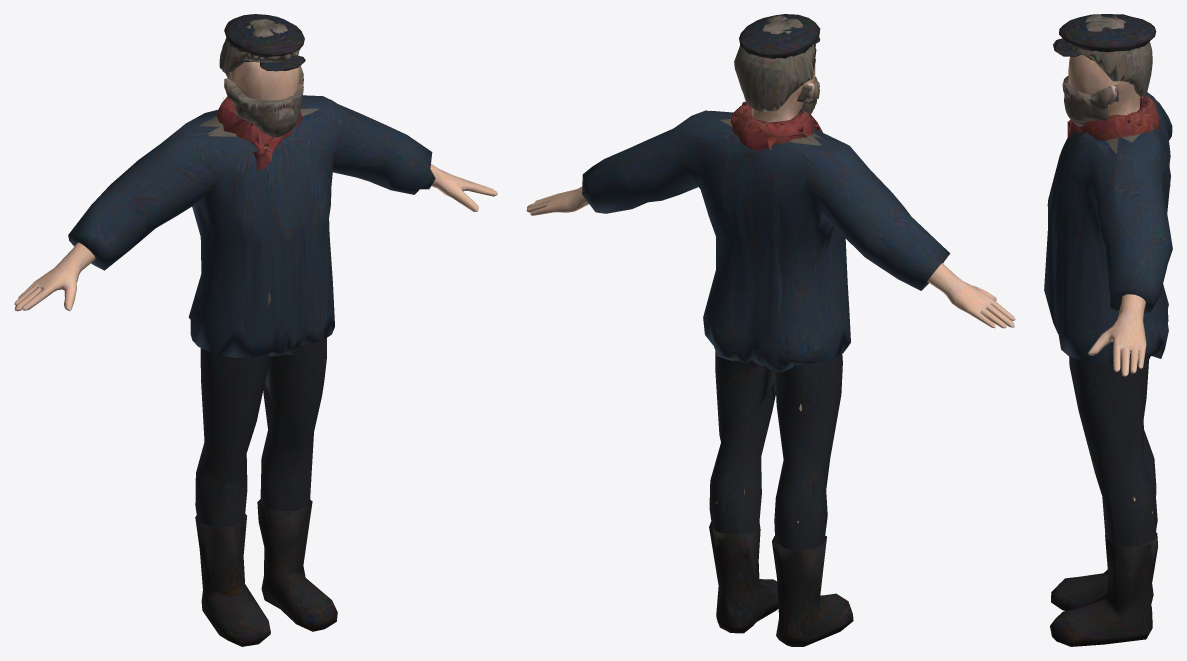
File: npc_driver.glb
3 renders of one model, left to right at view 1: azimuth 30°, elevation 25°; view 2: azimuth 150°, elevation 25°; view 3: azimuth 270°, elevation 25°, orthographic.
Visible parts, largest first — view 1: Human; view 2: Human; view 3: Human.
Boxes of the visible parts, x1,y1,x2,y2 form: Human: (14,14,497,646); Human: (526,14,1015,646); Human: (1044,14,1172,646).
Bounding box in the file's own units: 1.54 × 1.83 × 0.3522.
Materials: 1 (1 with a texture image).
